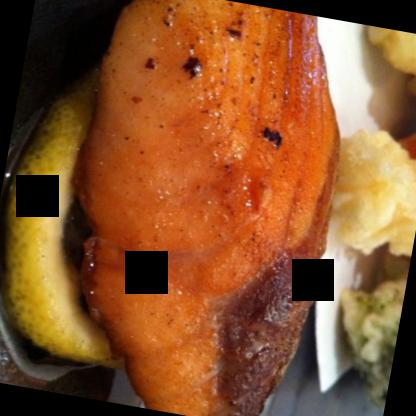salmon: (41, 0, 368, 415)
